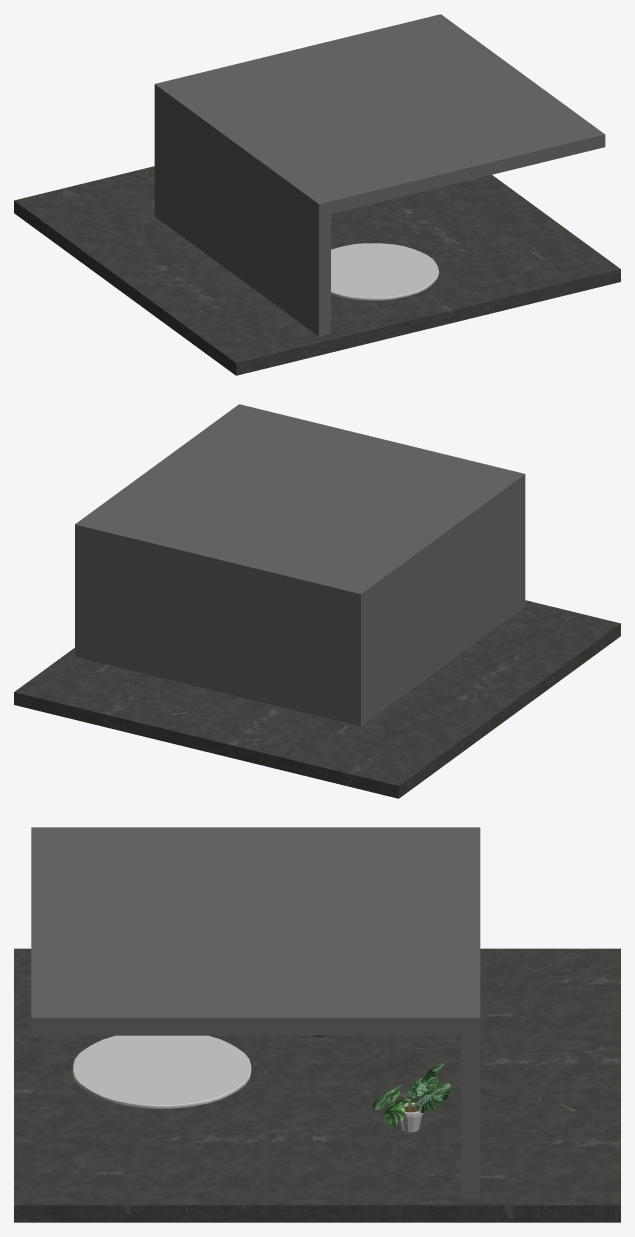
Rendered from garage.fbx.
The picture shows the model from 3 angles, top to bottom: view 1: azimuth 30°, elevation 25°; view 2: azimuth 150°, elevation 25°; view 3: azimuth 270°, elevation 25°; orthographic projection. The views are drawn at different scales.
Parts seen in each view (by area): view 1: pCylinderShape1; view 2: pCylinderShape1; view 3: pCylinderShape1.
Boxes of the visible parts, x1=… form: pCylinderShape1: x1=14, y1=14, x2=620, y2=375; pCylinderShape1: x1=14, y1=404, x2=620, y2=798; pCylinderShape1: x1=14, y1=827, x2=620, y2=1222.
Bounding box in the file's own units: 12.45 × 5.74 × 12.45.
